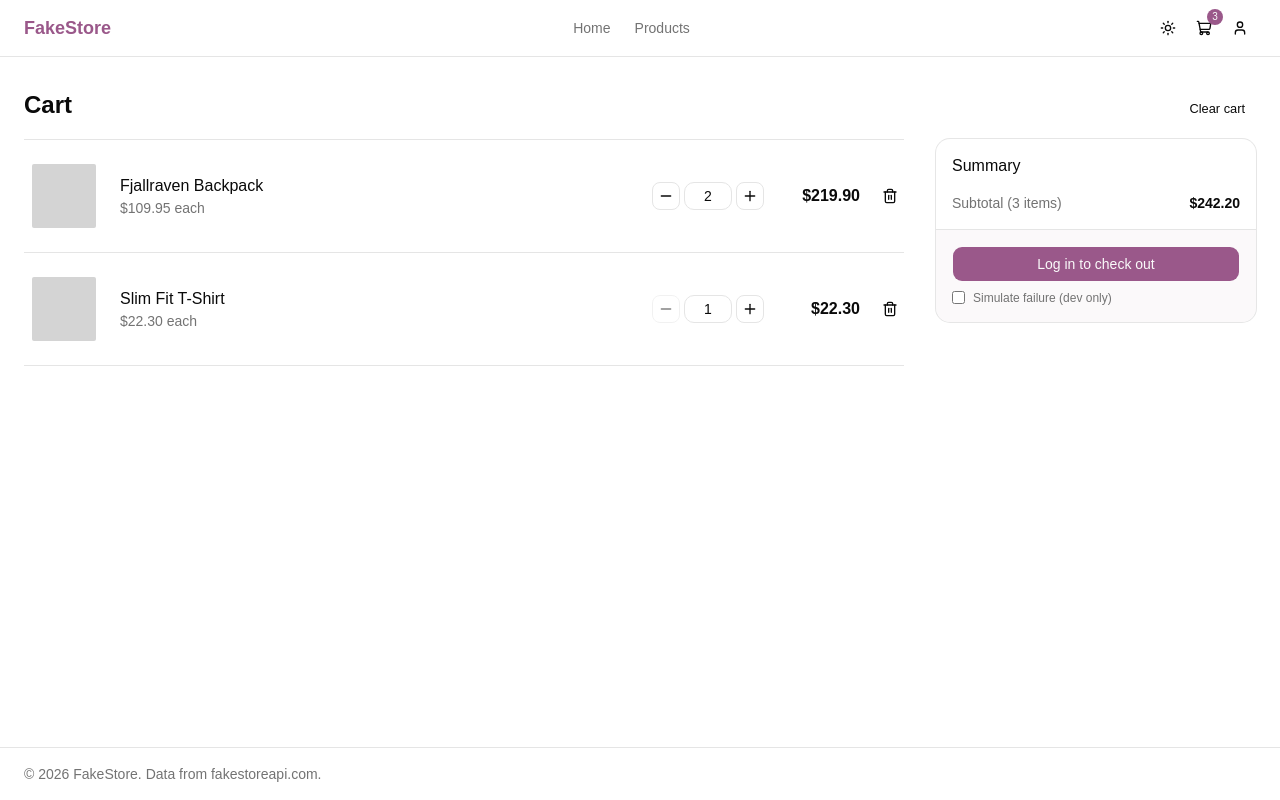
Test: CartPage › removes a line and clears the cart
What coordinates should you click on to do the following:
click the button named "Remove Fjallraven Backpack"
I would click on:
 (890, 196)
Its box is x1=876 y1=182 x2=904 y2=210.
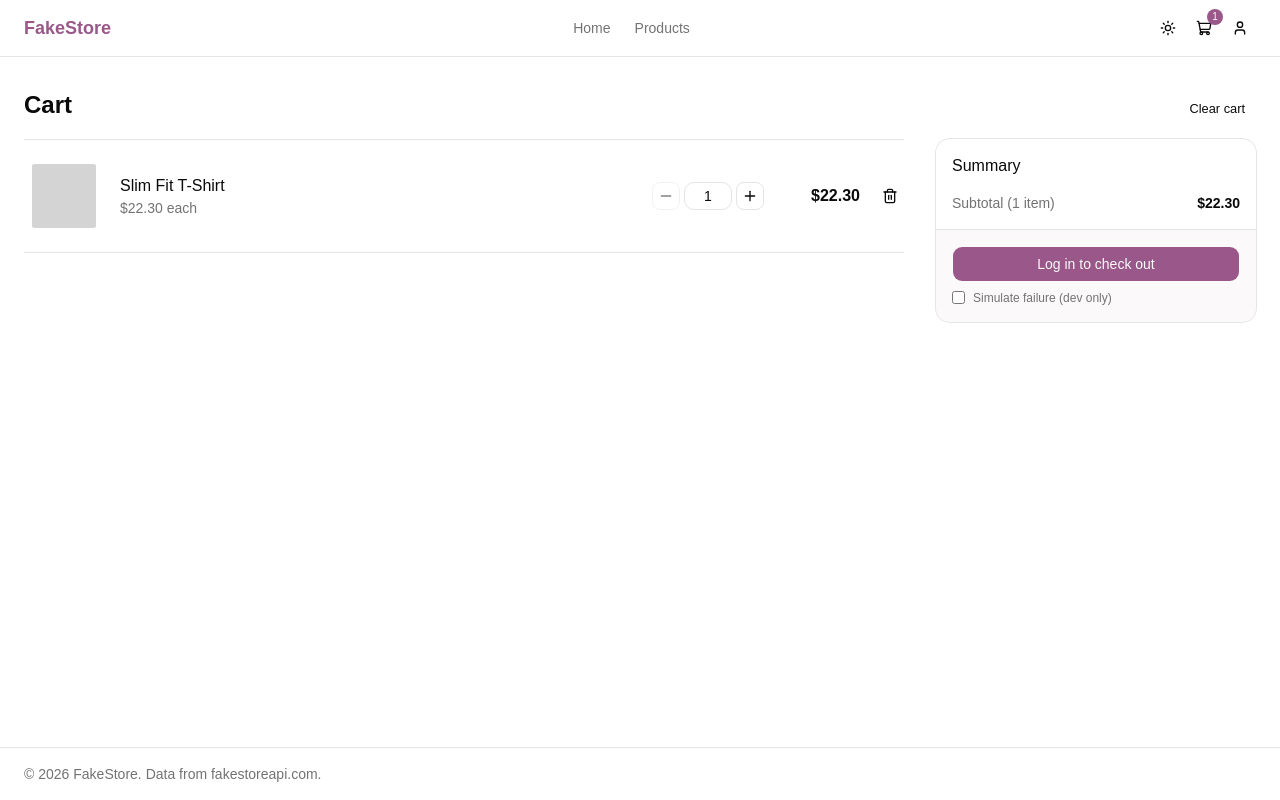
Check: the link "Fjallraven Backpack" is gone
Check: the text "Subtotal (1 item)" is shown, box x1=952 y1=193 x2=1055 y2=213
What coordinates should you click on to do the following:
click the button "Clear cart"
I would click on:
 (1217, 109)
Its box is x1=1178 y1=95 x2=1256 y2=123.
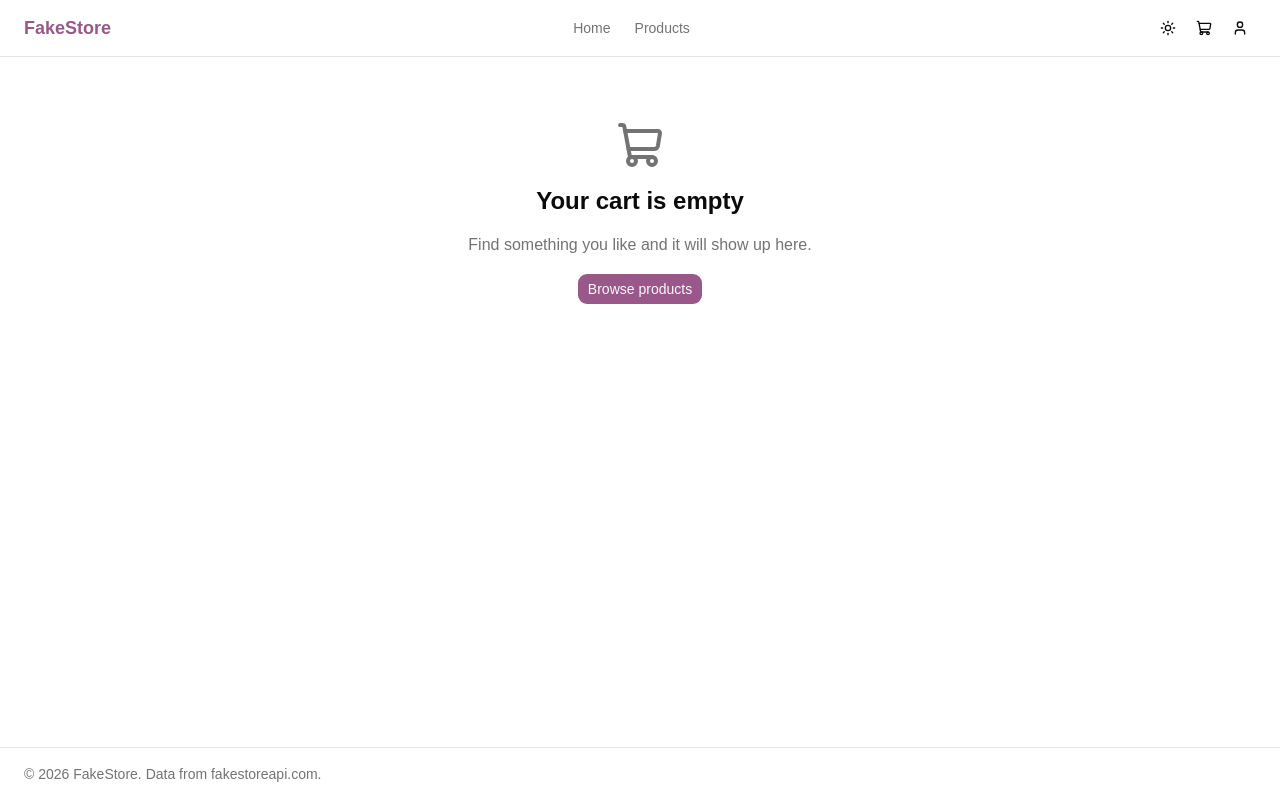
Check: the heading "Your cart is empty" is shown, box x1=536 y1=185 x2=744 y2=217
